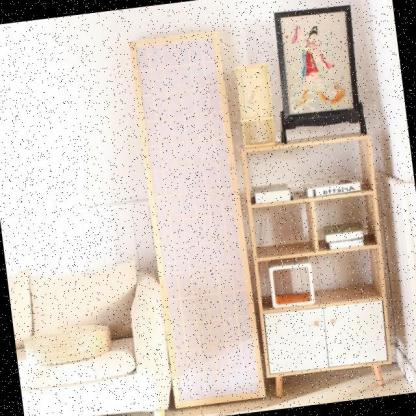Shelf: (236, 129, 403, 406)
